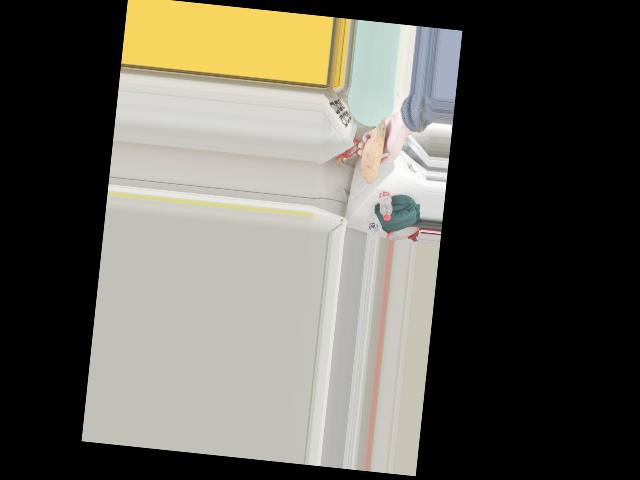sweet_potato: (359, 122, 388, 178)
